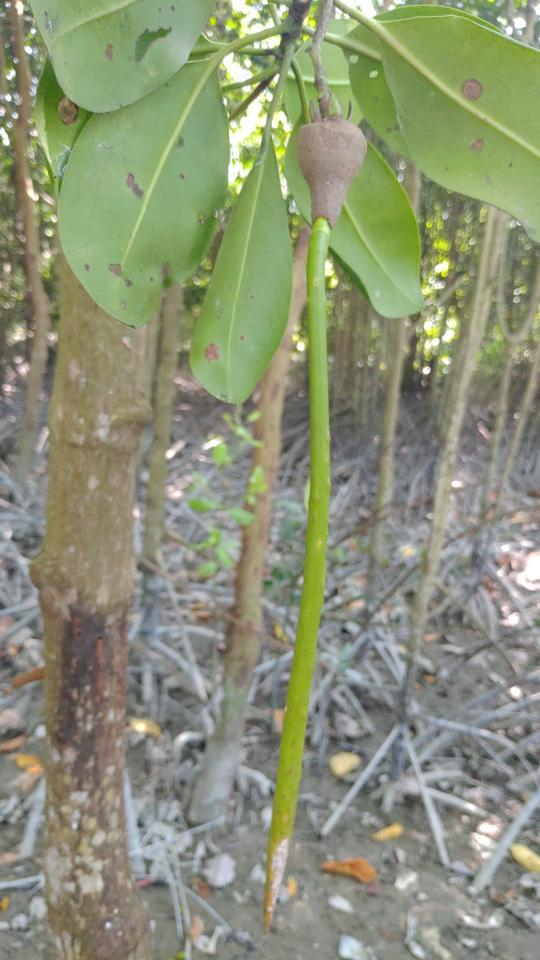setengah matang: (248, 88, 380, 943)
